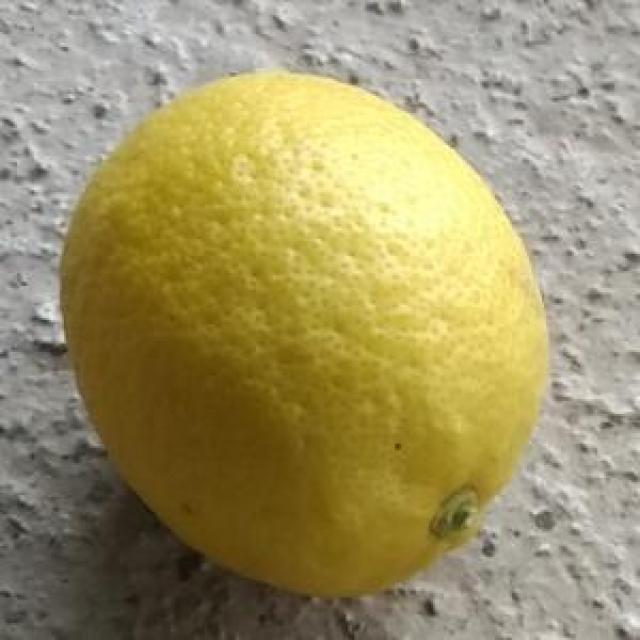lemon: (59, 71, 546, 598)
